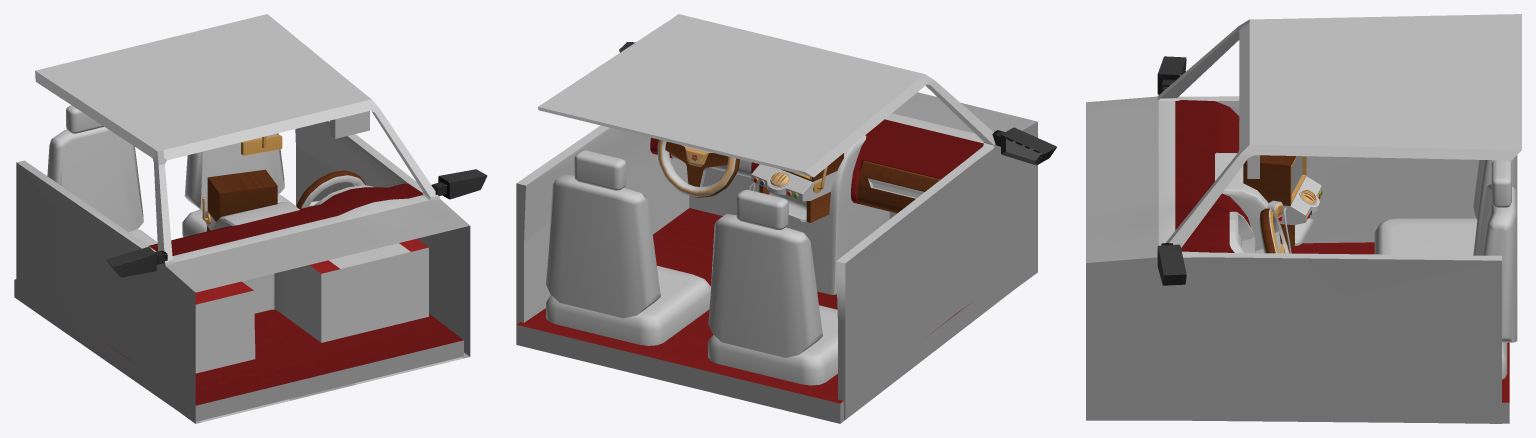
The model's file is TruckInterior.fbx.
3 views of the same model, side by side, from view 1: azimuth 30°, elevation 25°; view 2: azimuth 150°, elevation 25°; view 3: azimuth 270°, elevation 25° (orthographic). The views are drawn at different scales.
Parts seen in each view (by area): view 1: polySurface46; view 2: polySurface46; view 3: polySurface46.
Part boxes in pixels (box(x1,y1,x2,y2)): polySurface46: box(14, 14, 487, 423); polySurface46: box(516, 14, 1056, 423); polySurface46: box(1086, 14, 1521, 423).
Size of the model in its own units: 190 by 105 by 160.
